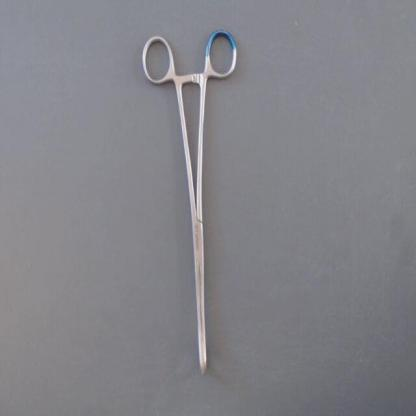Sponge Forceps: (134, 22, 246, 383)
